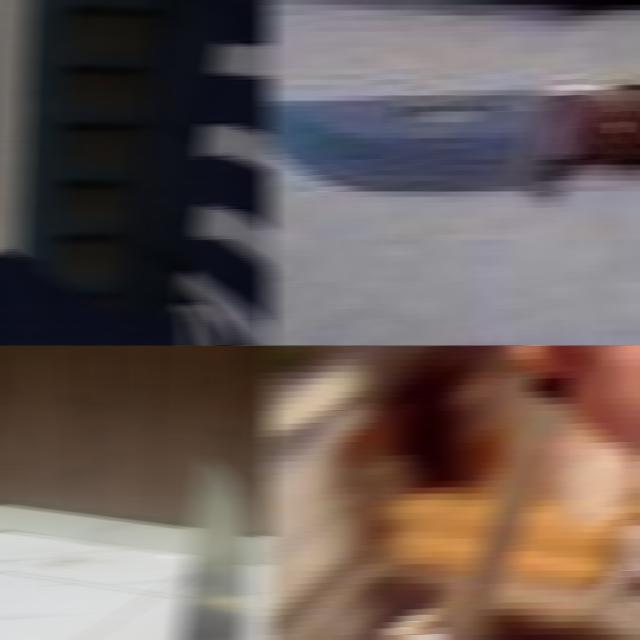Knife: (264, 86, 640, 191), (176, 459, 250, 640)
Knife_Handle: (0, 450, 272, 640), (459, 345, 640, 624)
